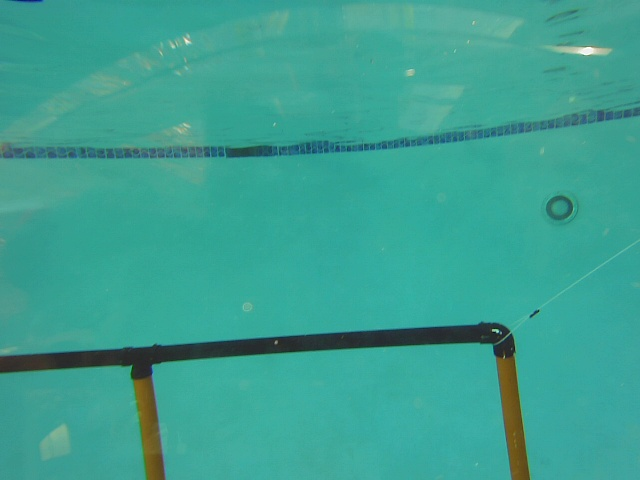Gate: (493, 348, 534, 480), (128, 372, 169, 480)
